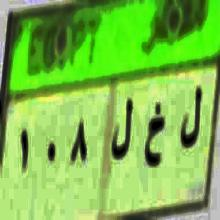0: (43, 131, 59, 171)
1: (17, 117, 31, 176)
8: (68, 113, 88, 170)
khaa: (144, 92, 165, 179)
laam: (180, 77, 203, 156), (111, 92, 136, 160)
